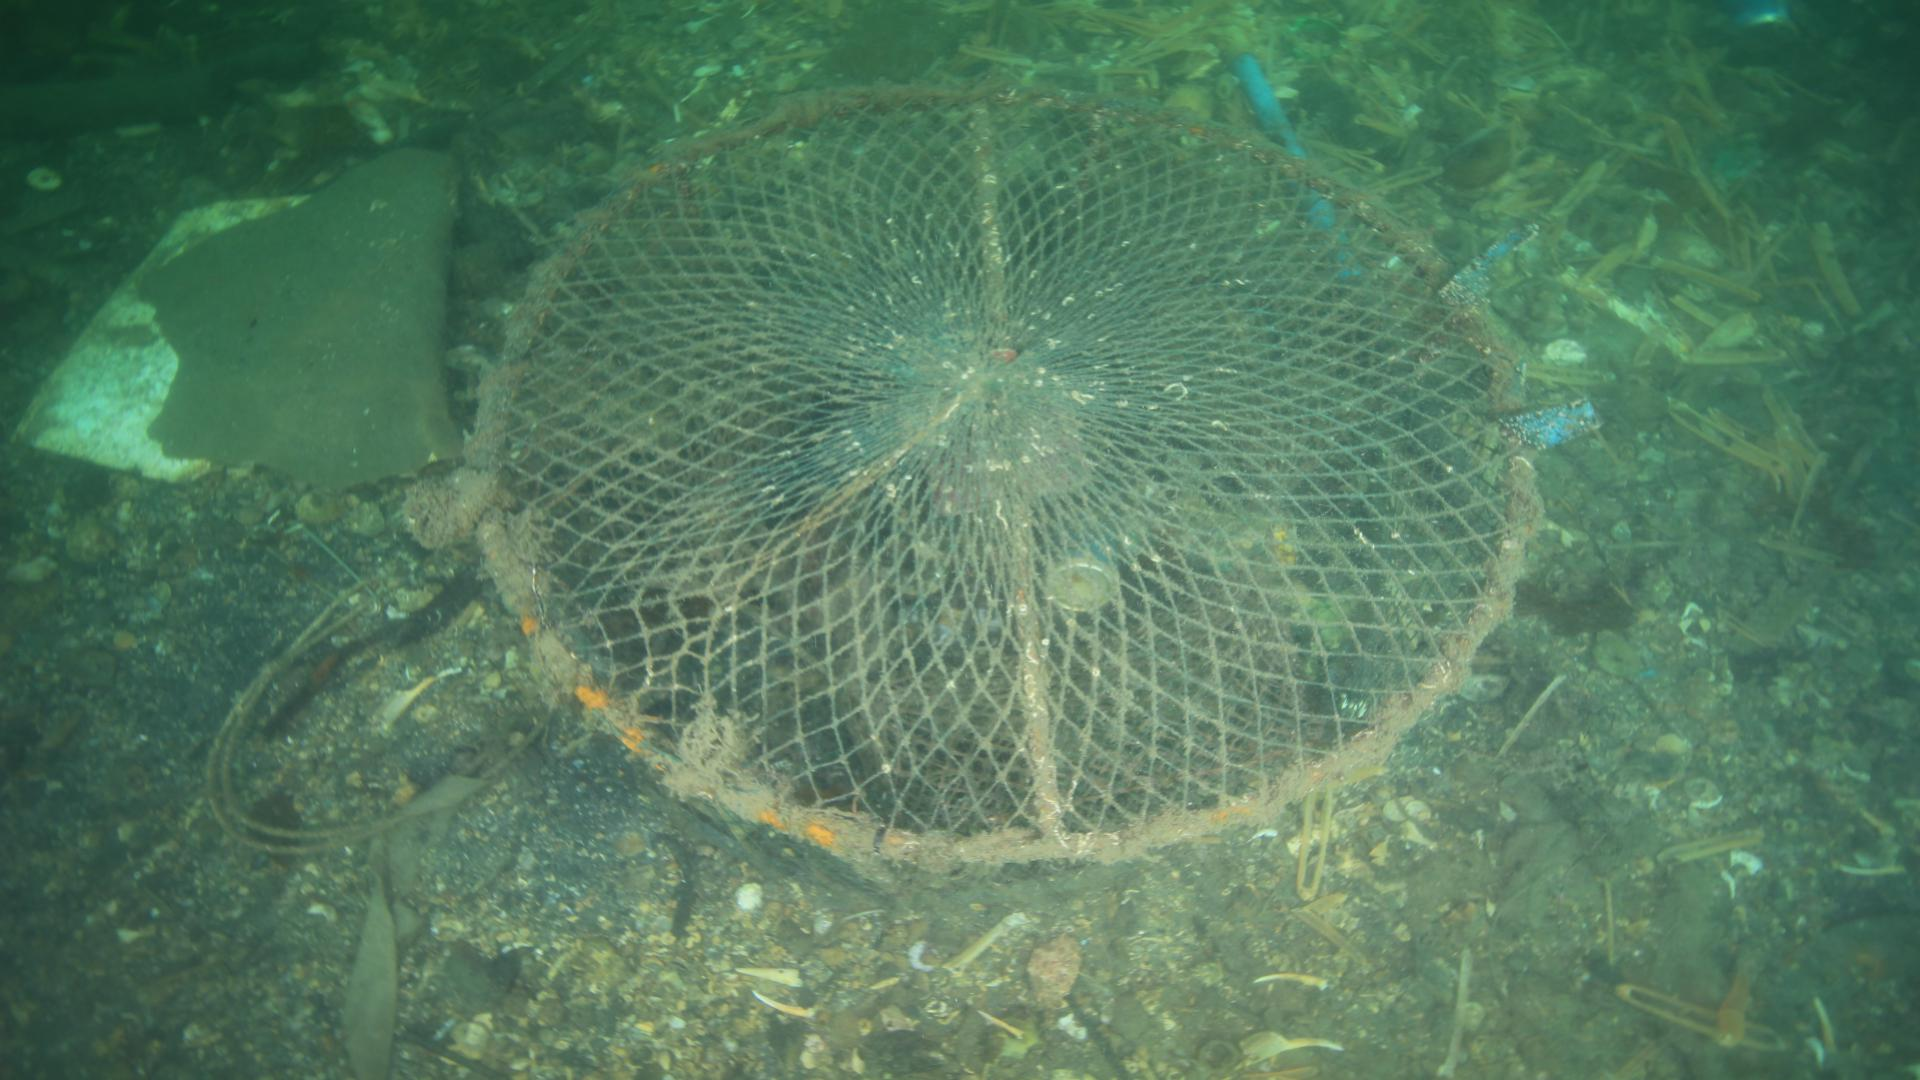circular fish trap: (465, 82, 1549, 877)
